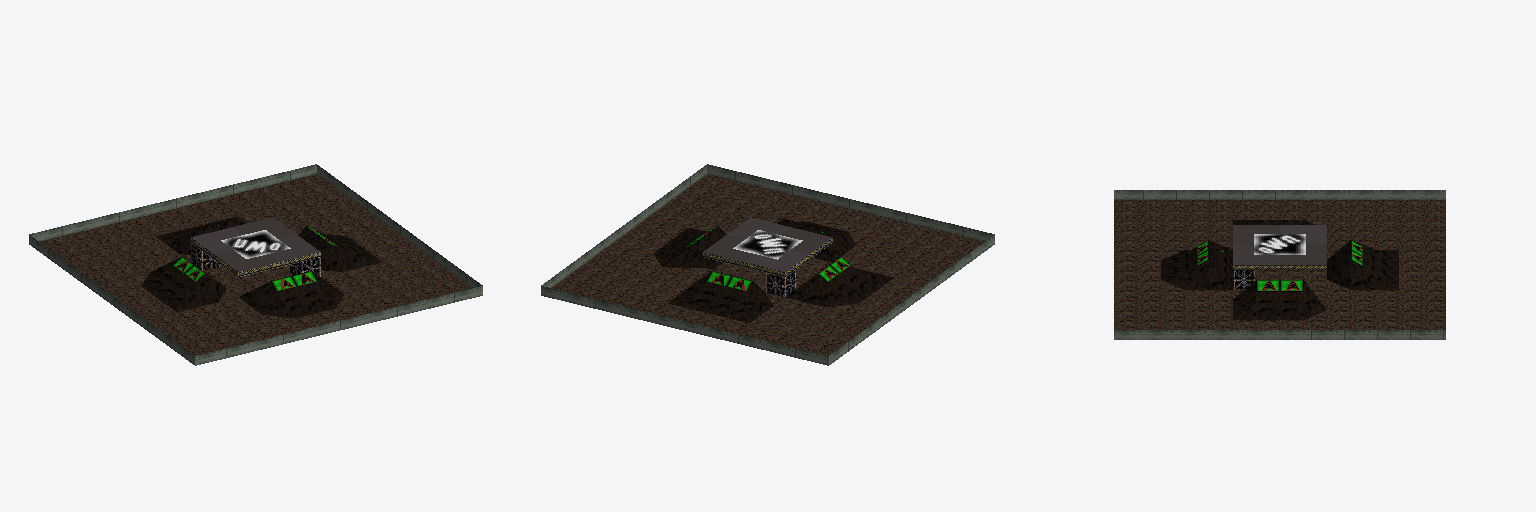
The picture shows the model from 3 angles: view 1: azimuth 30°, elevation 25°; view 2: azimuth 150°, elevation 25°; view 3: azimuth 270°, elevation 25°; orthographic projection.
Parts seen in each view (by area): view 1: Rip_0004-SKP--Road_0x00, Rip_0004-SKP--Wall_0x0C, Rip_0004-SKP--GRoad_0x16, Rip_0004-SKP--Road_0x00_4, Rip_0004-SKP--Road_0x00_2, Rip_0004-SKP--JumpPad_0x08, Rip_0004-SKP--Wall_0x0C_3, Rip_0004-SKP--Wall_0x0C_2, Rip_0004-SKP--Road_0x00_3, Rip_0004-SKP--Road_0x00_5; view 2: Rip_0004-SKP--Road_0x00, Rip_0004-SKP--Wall_0x0C, Rip_0004-SKP--GRoad_0x16, Rip_0004-SKP--Road_0x00_4, Rip_0004-SKP--Road_0x00_2, Rip_0004-SKP--JumpPad_0x08, Rip_0004-SKP--Wall_0x0C_2, Rip_0004-SKP--Road_0x00_5, Rip_0004-SKP--Road_0x00_3, Rip_0004-SKP--Wall_0x0C_3; view 3: Rip_0004-SKP--Road_0x00, Rip_0004-SKP--GRoad_0x16, Rip_0004-SKP--Wall_0x0C, Rip_0004-SKP--Road_0x00_4, Rip_0004-SKP--Road_0x00_2, Rip_0004-SKP--JumpPad_0x08, Rip_0004-SKP--Road_0x00_3, Rip_0004-SKP--Road_0x00_5.
Boxes of the visible parts, x1,y1,x2,y2 form: Rip_0004-SKP--Road_0x00: [40, 174, 471, 355]; Rip_0004-SKP--Wall_0x0C: [29, 164, 482, 365]; Rip_0004-SKP--GRoad_0x16: [141, 217, 381, 317]; Rip_0004-SKP--Road_0x00_4: [215, 217, 296, 271]; Rip_0004-SKP--Road_0x00_2: [221, 230, 290, 258]; Rip_0004-SKP--JumpPad_0x08: [172, 226, 339, 291]; Rip_0004-SKP--Wall_0x0C_3: [191, 243, 320, 276]; Rip_0004-SKP--Wall_0x0C_2: [191, 238, 320, 276]; Rip_0004-SKP--Road_0x00_3: [269, 235, 319, 261]; Rip_0004-SKP--Road_0x00_5: [191, 227, 241, 253]; Rip_0004-SKP--Road_0x00: [552, 174, 983, 355]; Rip_0004-SKP--Wall_0x0C: [541, 164, 994, 365]; Rip_0004-SKP--GRoad_0x16: [653, 219, 893, 322]; Rip_0004-SKP--Road_0x00_4: [704, 227, 832, 261]; Rip_0004-SKP--Road_0x00_2: [733, 230, 802, 259]; Rip_0004-SKP--JumpPad_0x08: [684, 226, 851, 291]; Rip_0004-SKP--Wall_0x0C_2: [703, 238, 832, 276]; Rip_0004-SKP--Road_0x00_5: [745, 250, 807, 271]; Rip_0004-SKP--Road_0x00_3: [727, 217, 790, 238]; Rip_0004-SKP--Wall_0x0C_3: [766, 270, 795, 296]; Rip_0004-SKP--Road_0x00: [1114, 200, 1445, 329]; Rip_0004-SKP--GRoad_0x16: [1161, 220, 1398, 319]; Rip_0004-SKP--Wall_0x0C: [1114, 190, 1445, 339]; Rip_0004-SKP--Road_0x00_4: [1233, 225, 1326, 264]; Rip_0004-SKP--Road_0x00_2: [1254, 234, 1305, 254]; Rip_0004-SKP--JumpPad_0x08: [1197, 240, 1362, 291]; Rip_0004-SKP--Road_0x00_3: [1233, 245, 1279, 264]; Rip_0004-SKP--Road_0x00_5: [1280, 225, 1326, 244].
Bounding box in the file's own units: 11624 × 1081 × 11624.
12 materials, 7 textured.